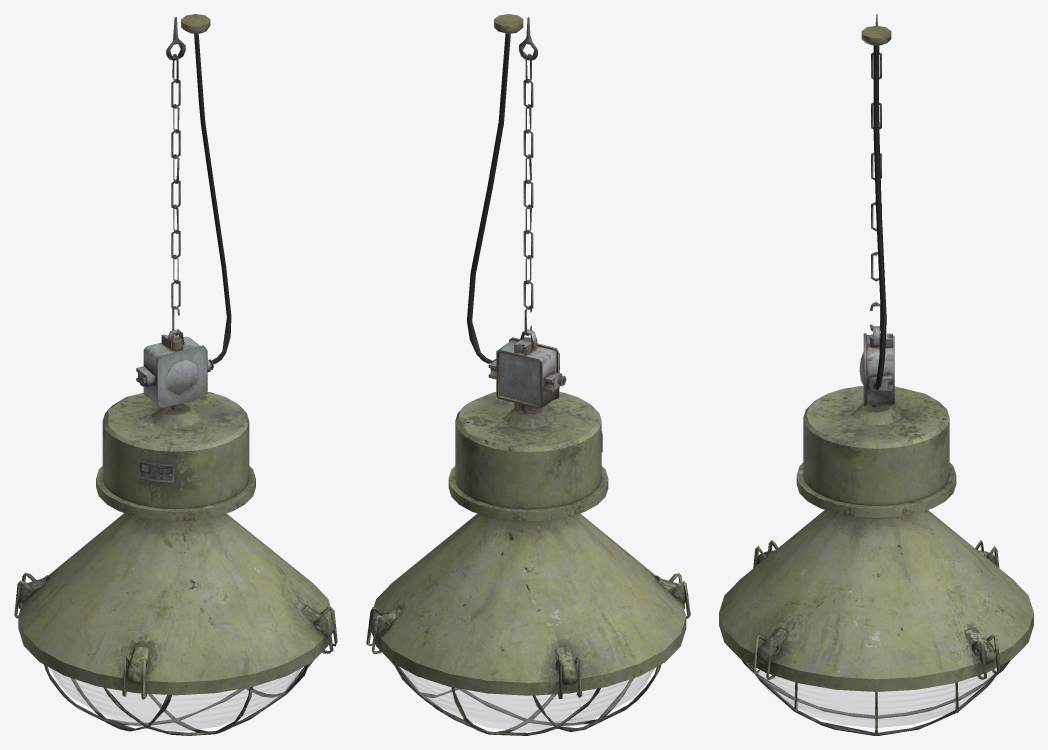
Rendered from hanging_industrial_lamp.glb.
3 renders of one model, left to right at view 1: azimuth 30°, elevation 25°; view 2: azimuth 150°, elevation 25°; view 3: azimuth 270°, elevation 25°, orthographic.
Visible parts, largest first — view 1: hanging_industrial_lamp; view 2: hanging_industrial_lamp; view 3: hanging_industrial_lamp.
Boxes of the visible parts, bbox=[...] form: hanging_industrial_lamp: bbox=[14, 14, 337, 735]; hanging_industrial_lamp: bbox=[366, 14, 690, 735]; hanging_industrial_lamp: bbox=[719, 14, 1033, 735].
Bounding box in the file's own units: 0.5496 × 1.36 × 0.5496.
Materials: 2 (1 with a texture image).
